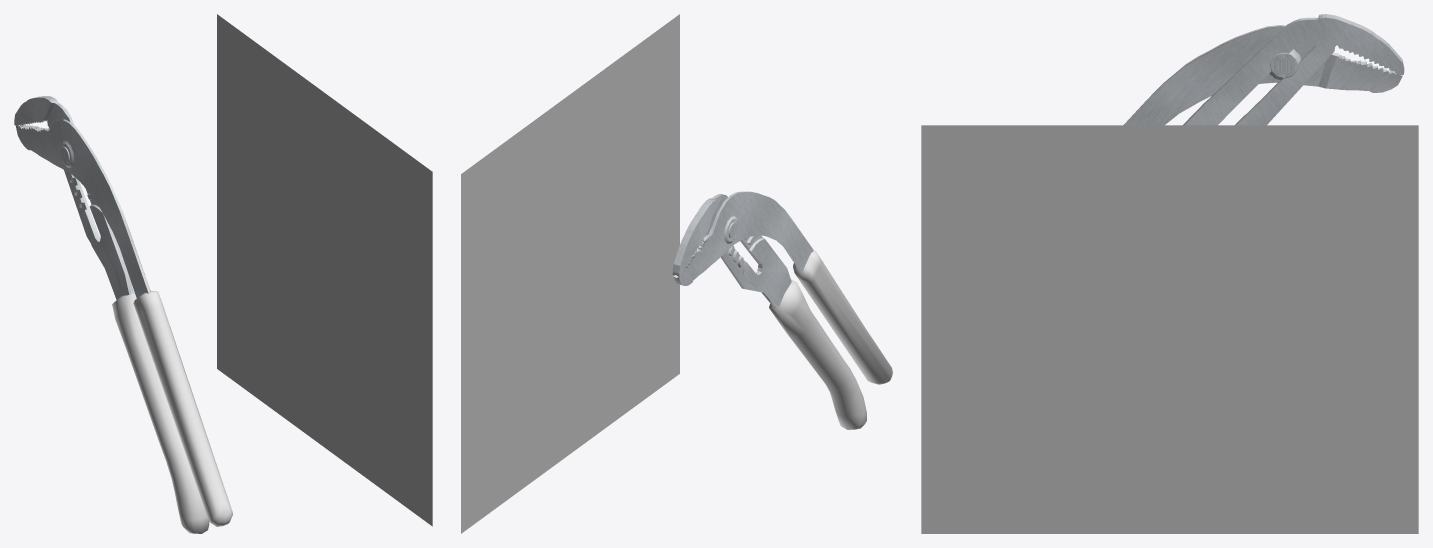
File: Wrench_UnityTest.FBX
The picture shows the model from 3 angles, left to right: view 1: azimuth 30°, elevation 25°; view 2: azimuth 150°, elevation 25°; view 3: azimuth 270°, elevation 25°; orthographic projection. The views are drawn at different scales.
Parts seen in each view (by area): view 1: Plane001, Box003, Box001, Box004, Box002; view 2: Plane001, Box004, Box001, Box002, Box003; view 3: Plane001, Box002, Box004, Cylinder002.
Boxes of the visible parts, left/top/right/bottom form: Plane001: left=217, top=14, right=432, bottom=526; Box003: left=133, top=290, right=232, bottom=526; Box001: left=112, top=293, right=209, bottom=533; Box004: left=16, top=119, right=150, bottom=298; Box002: left=14, top=96, right=133, bottom=299; Plane001: left=461, top=14, right=679, bottom=533; Box004: left=673, top=191, right=813, bottom=285; Box001: left=769, top=279, right=866, bottom=429; Box002: left=672, top=194, right=791, bottom=307; Box003: left=793, top=250, right=892, bottom=384; Plane001: left=921, top=125, right=1418, bottom=533; Box002: left=1183, top=14, right=1404, bottom=125; Box004: left=1123, top=25, right=1402, bottom=125; Cylinder002: left=1269, top=49, right=1301, bottom=79.
Bounding box in the file's own units: 179 × 279 × 308.
